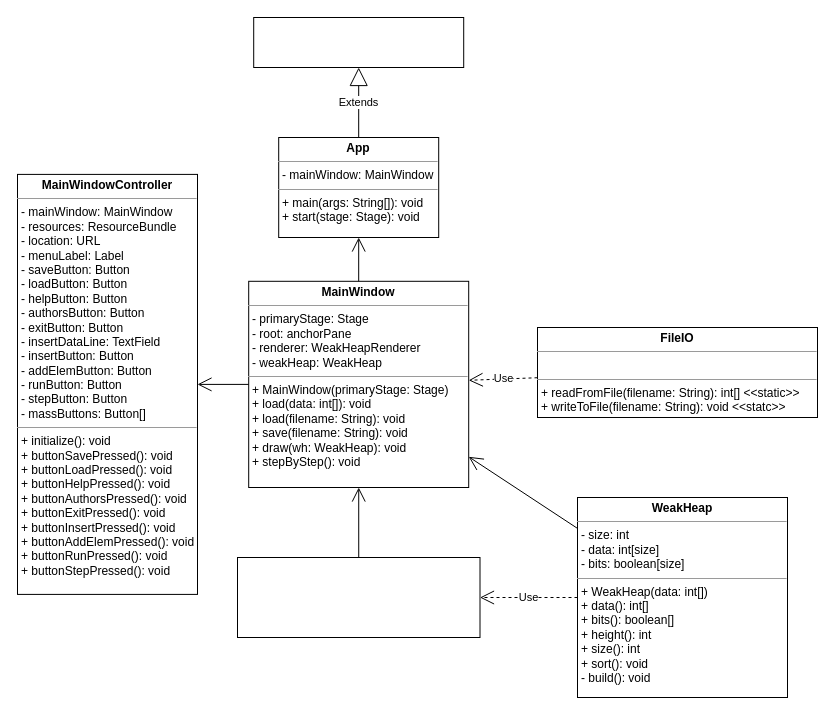
This 835x715 diagram has some shape labels left out. The centre of each missing label's shape, as x and y in pixels:
"class javafx.application.Application" goes at pixel 358 42.
"WeakHeapRenderer + render(wh: WeakHeap): void" goes at pixel 358 597.
